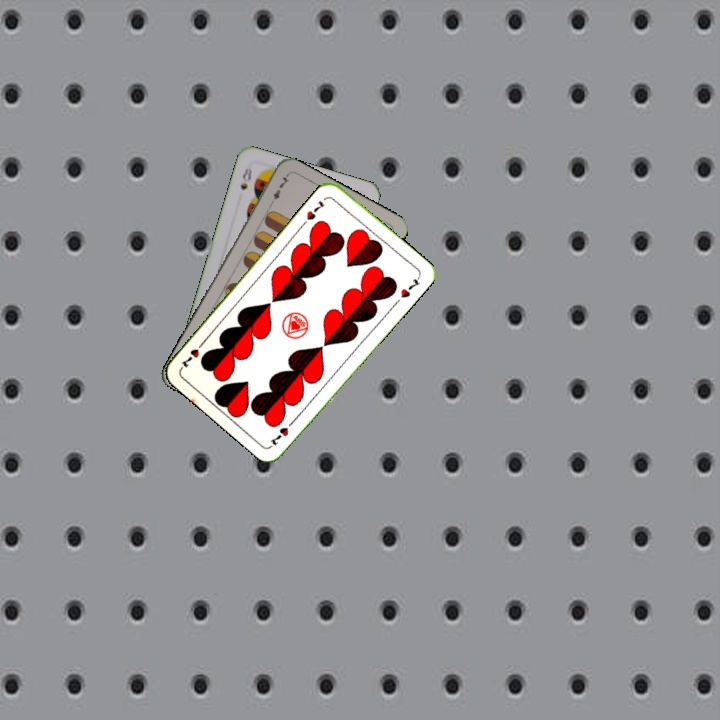E7: (265, 171, 292, 208)
H7: (266, 415, 298, 448), (302, 197, 327, 222)
S8: (236, 163, 255, 192)
